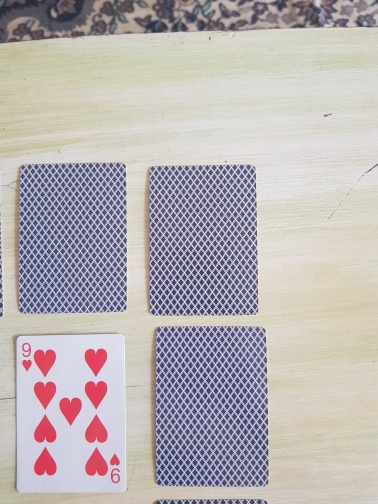nine: (15, 333, 128, 494)
